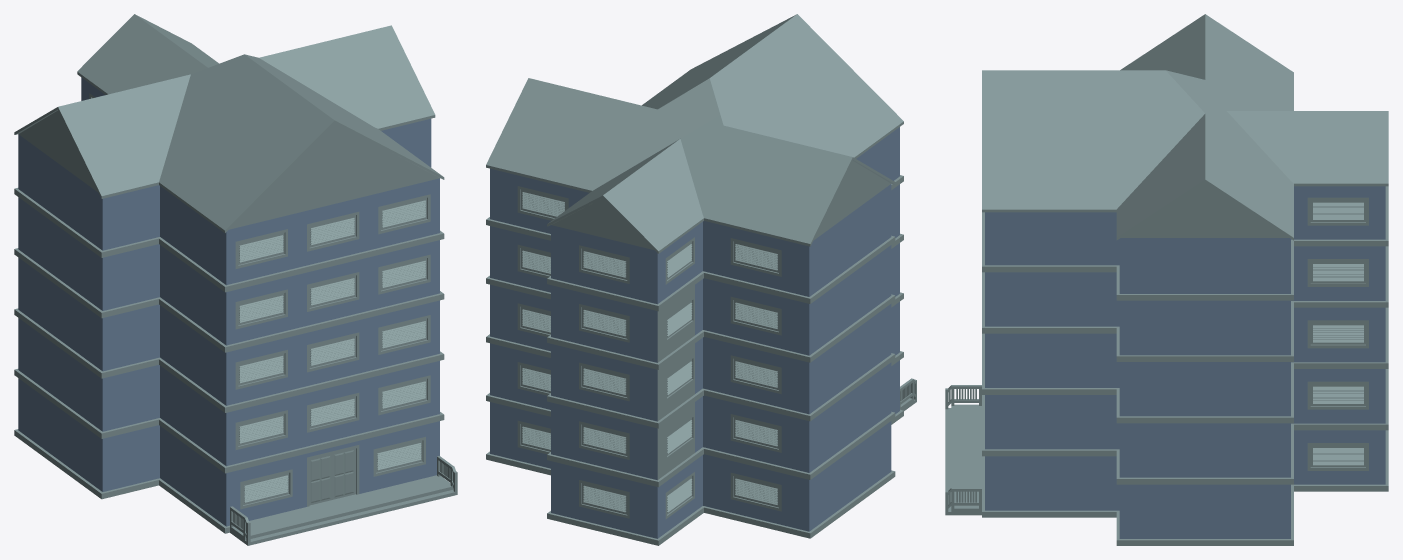
File: Large apartment building 2.fbx
3 renders of one model, left to right at view 1: azimuth 30°, elevation 25°; view 2: azimuth 150°, elevation 25°; view 3: azimuth 270°, elevation 25°, orthographic. The views are drawn at different scales.
Parts seen in each view (by area): view 1: building_001; view 2: building_001; view 3: building_001.
Boxes of the visible parts, left/top/right/bottom form: building_001: left=14, top=14, right=457, bottom=545; building_001: left=486, top=14, right=916, bottom=545; building_001: left=945, top=14, right=1388, bottom=545.
Bounding box in the file's own units: 1273 × 1410 × 1443.
